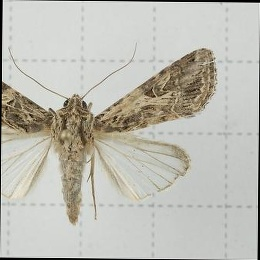Spodoptera litura: (1, 41, 217, 227)
